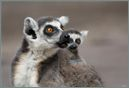cat: (10, 14, 106, 87), (54, 26, 92, 60)
